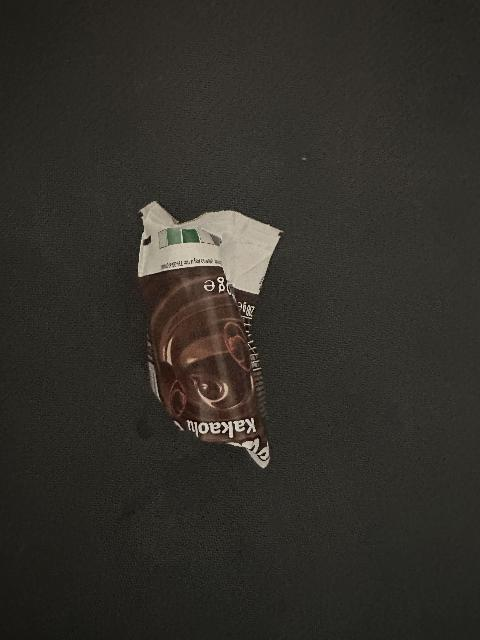Kagit: (133, 202, 286, 469)
